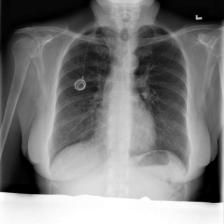normal: (43, 20, 194, 181)
